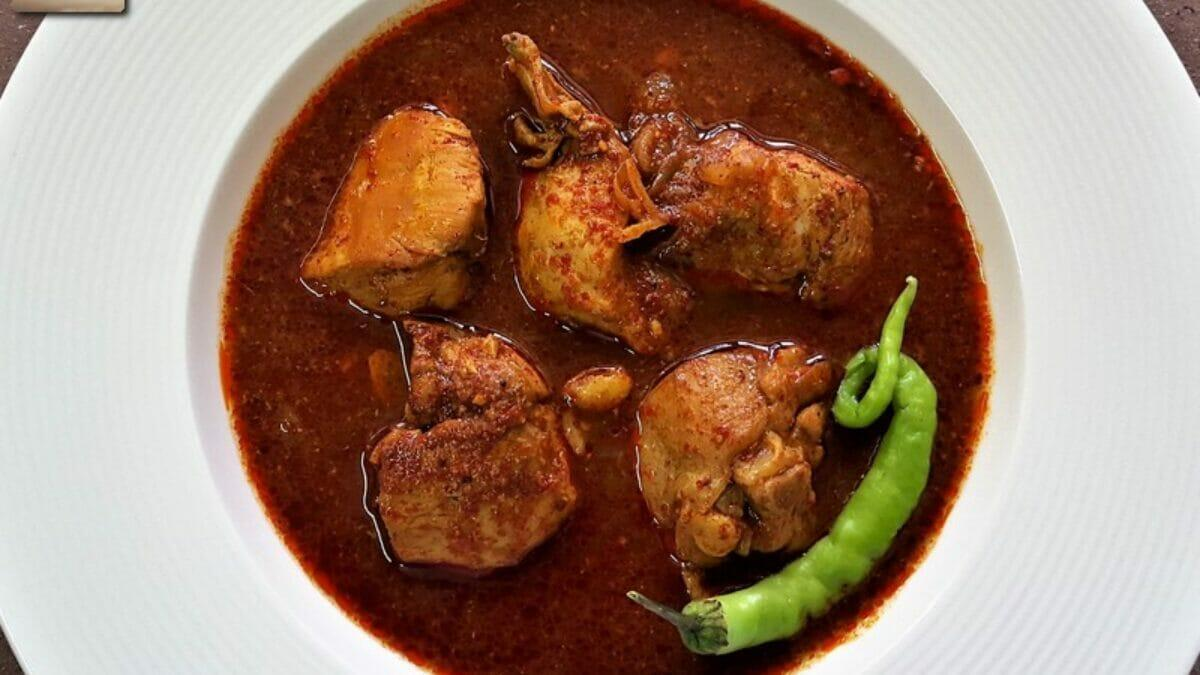chicken: (284, 9, 942, 672)
